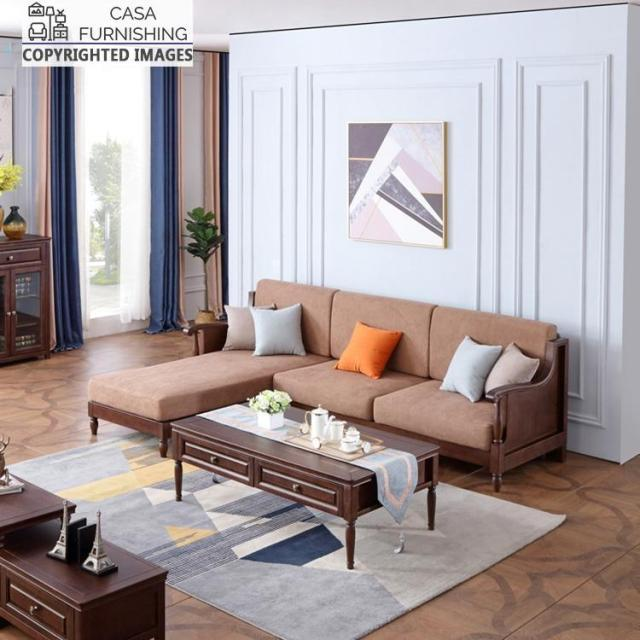sofa: (86, 276, 570, 492)
